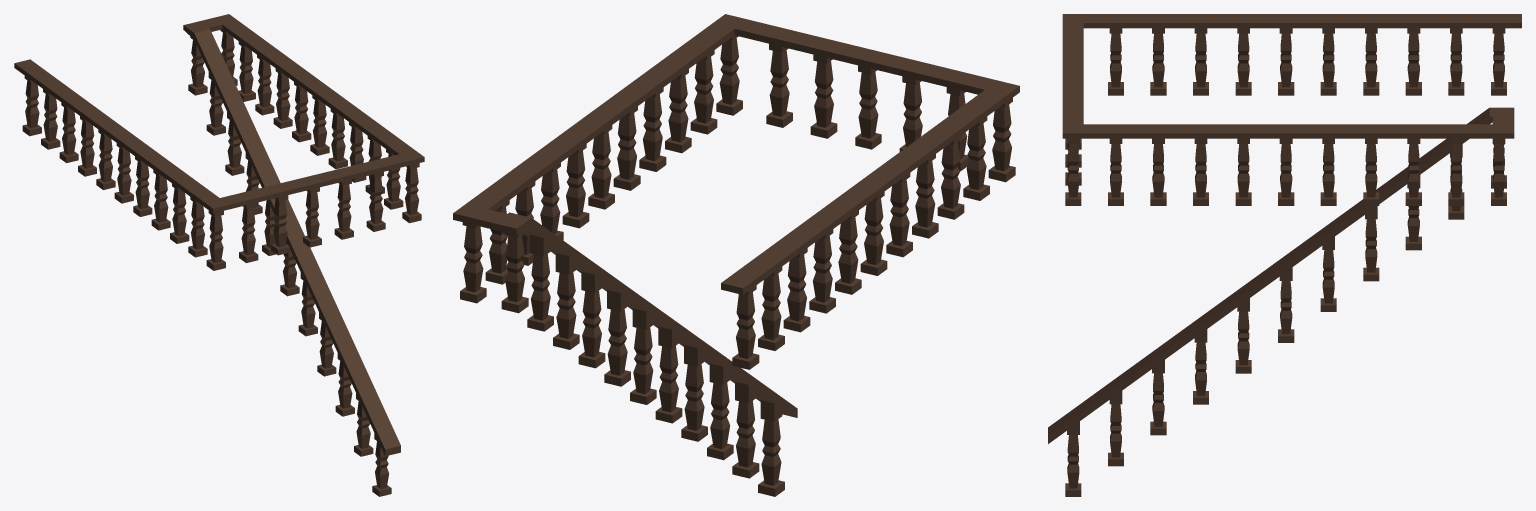
File: S_RailingStairs.fbx
The picture shows the model from 3 angles, left to right: view 1: azimuth 30°, elevation 25°; view 2: azimuth 150°, elevation 25°; view 3: azimuth 270°, elevation 25°; orthographic projection. The views are drawn at different scales.
Visible parts, largest first — view 1: S_RailingStairs; view 2: S_RailingStairs; view 3: S_RailingStairs.
Boxes of the visible parts, <box> form: S_RailingStairs: <box>14,14,424,496</box>; S_RailingStairs: <box>453,14,1019,496</box>; S_RailingStairs: <box>1048,14,1521,496</box>.
Size of the model in its own units: 266 by 396 by 446.
